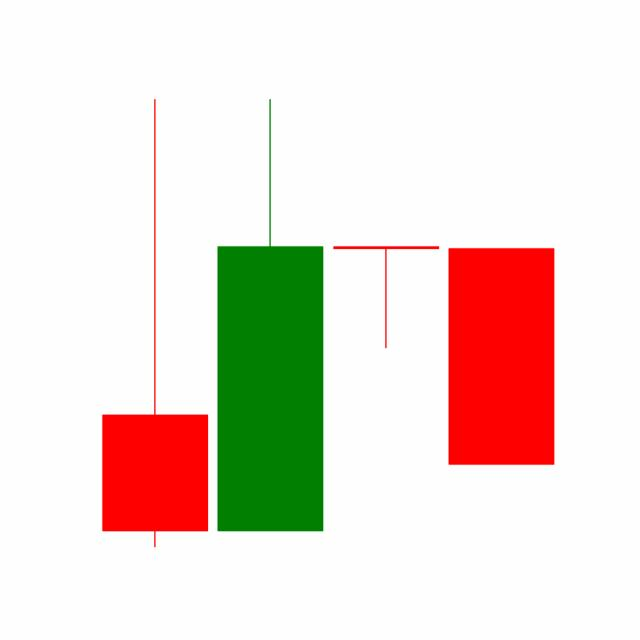Dragonfly Doji: (328, 244, 444, 349)
